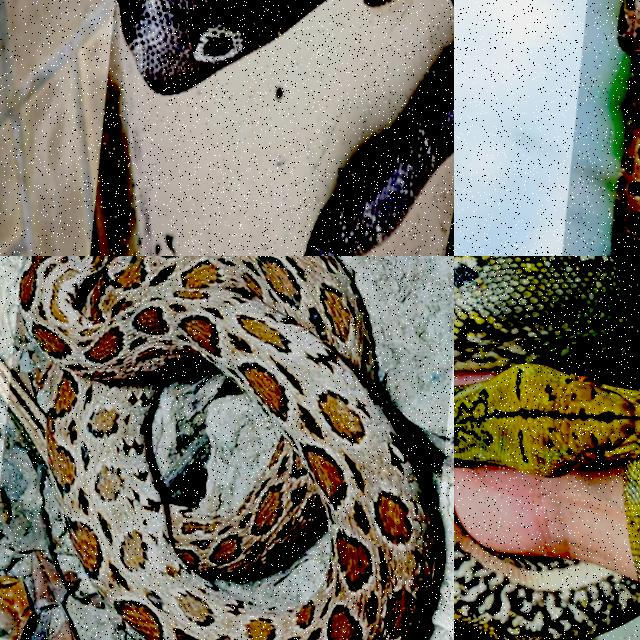Daboia siamensis: (20, 256, 434, 639), (612, 0, 639, 255)
Malayopython reticulatus: (454, 256, 639, 581)
Naja kaouthia: (305, 59, 453, 255)
snake: (20, 256, 434, 639), (454, 256, 639, 581), (305, 59, 453, 255), (612, 0, 639, 255)
